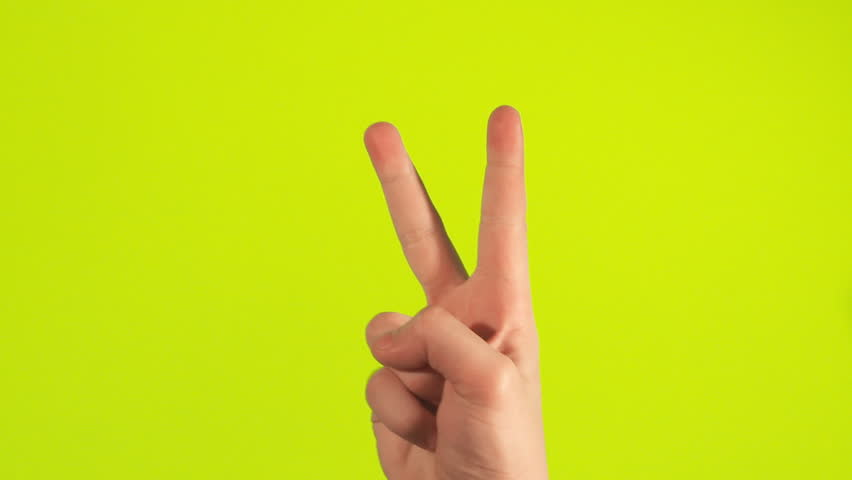peacesign: (352, 96, 571, 480)
